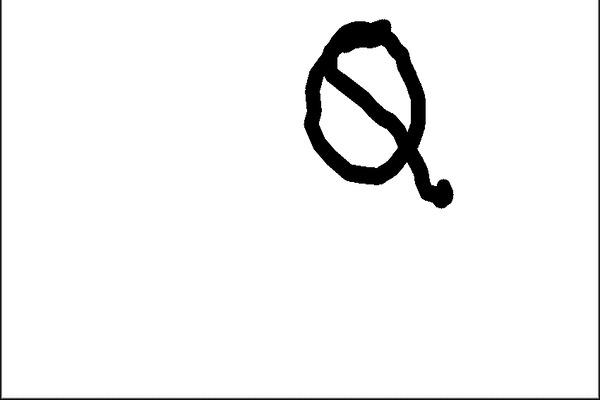Q: (291, 4, 459, 212)
